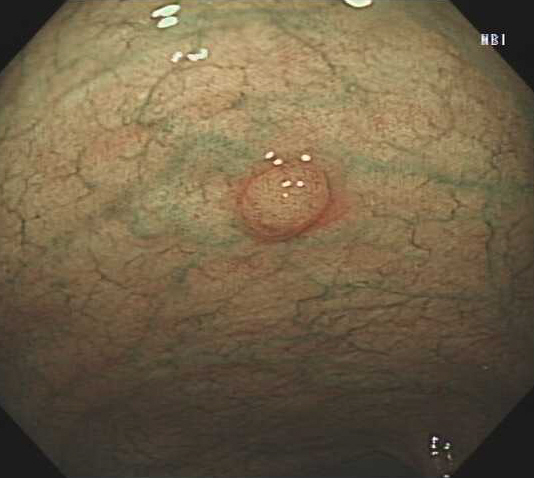adenoma: (234, 159, 336, 241)
